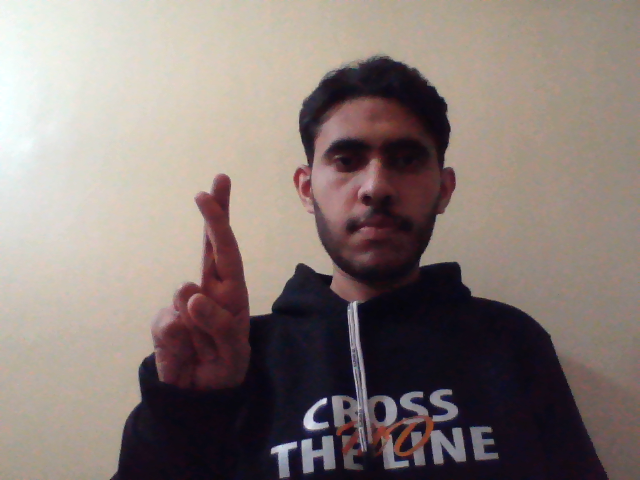R: (150, 168, 256, 392)
